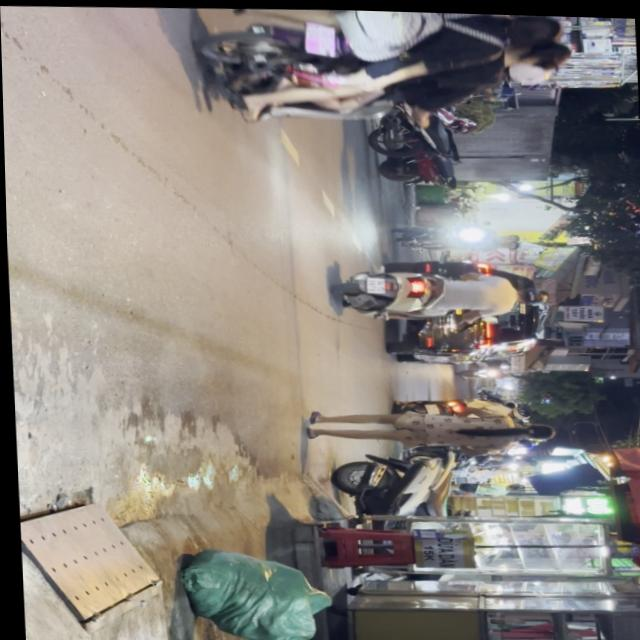helmet: (500, 56, 553, 82), (516, 283, 548, 302)
licenseplate: (185, 4, 580, 129), (329, 259, 551, 324)
motorcyclist: (504, 31, 573, 66), (500, 12, 566, 41)
nohelmet: (305, 20, 337, 54), (364, 274, 383, 290)
